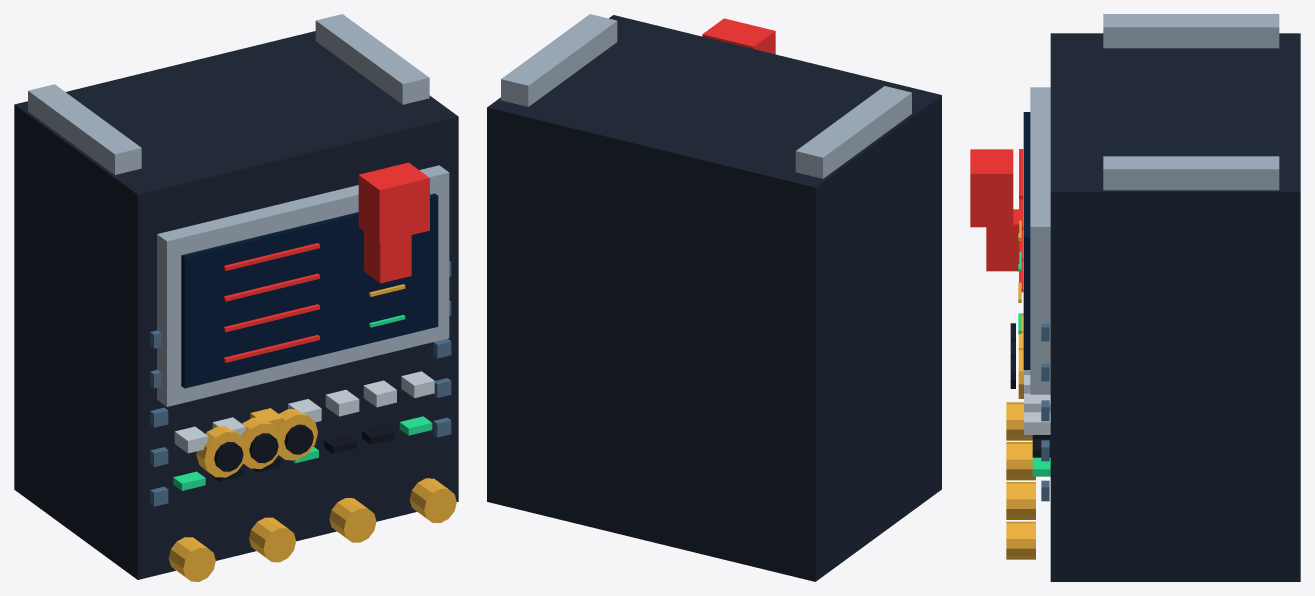
File: 67_L85_StuckThrusterValveFaultEmulator.fbx
The picture shows the model from 3 angles, left to right: view 1: azimuth 30°, elevation 25°; view 2: azimuth 150°, elevation 25°; view 3: azimuth 270°, elevation 25°; orthographic projection. The views are drawn at different scales.
Visible parts, largest first — view 1: L85_StuckThrusterValveFaultEmulator, L85_StuckThrusterValveFaultEmulator_Part_0009, L85_StuckThrusterValveFaultEmulator_Part_0010, L85_StuckThrusterValveFaultEmulator_Part_0012, L85_StuckThrusterValveFaultEmulator_Part_0014, L85_StuckThrusterValveFaultEmulator_Part_0015, L85_StuckThrusterValveFaultEmulator_Part_0013, L85_StuckThrusterValveFaultEmulator_Part_0011; view 2: L85_StuckThrusterValveFaultEmulator, L85_StuckThrusterValveFaultEmulator_Part_0009; view 3: L85_StuckThrusterValveFaultEmulator, L85_StuckThrusterValveFaultEmulator_Part_0009.
Part boxes in pixels (box(x1,y1,x2,y2)): L85_StuckThrusterValveFaultEmulator: box(14, 14, 458, 581); L85_StuckThrusterValveFaultEmulator_Part_0009: box(358, 162, 429, 242); L85_StuckThrusterValveFaultEmulator_Part_0010: box(196, 426, 247, 477); L85_StuckThrusterValveFaultEmulator_Part_0012: box(241, 417, 282, 468); L85_StuckThrusterValveFaultEmulator_Part_0014: box(276, 409, 317, 460); L85_StuckThrusterValveFaultEmulator_Part_0015: box(284, 424, 313, 454); L85_StuckThrusterValveFaultEmulator_Part_0013: box(249, 433, 278, 463); L85_StuckThrusterValveFaultEmulator_Part_0011: box(214, 441, 243, 471); L85_StuckThrusterValveFaultEmulator: box(487, 14, 941, 581); L85_StuckThrusterValveFaultEmulator_Part_0009: box(702, 18, 775, 54); L85_StuckThrusterValveFaultEmulator: box(986, 14, 1300, 581); L85_StuckThrusterValveFaultEmulator_Part_0009: box(970, 149, 1013, 227).
Bounding box in the file's own units: 95.88 × 116 × 84.46.
